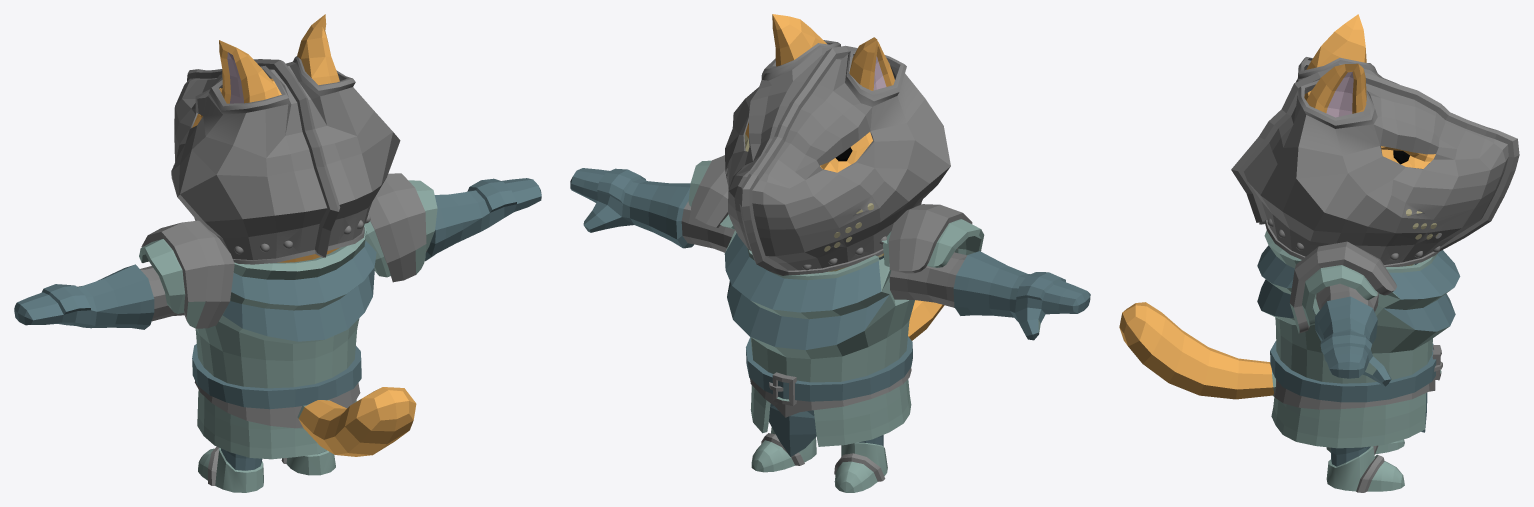
The model's file is Base_Armor_1_SEP_.fbx.
3 renders of one model, left to right at view 1: azimuth 30°, elevation 25°; view 2: azimuth 150°, elevation 25°; view 3: azimuth 270°, elevation 25°, orthographic. The views are drawn at different scales.
Visible parts, largest first — view 1: polySurface1.002, Helmet 1.004, polySurface1.019, polySurface1.003, polySurface1.009; view 2: polySurface1.002, Helmet 1.004, polySurface1.003, polySurface1.019, polySurface1.009; view 3: Helmet 1.004, polySurface1.002, polySurface1.019, polySurface1.003, polySurface1.009.
Boxes of the visible parts, x1=… form: polySurface1.002: x1=140, y1=14, x2=427, y2=459; Helmet 1.004: x1=171, y1=56, x2=400, y2=264; polySurface1.019: x1=139, y1=173, x2=437, y2=328; polySurface1.003: x1=14, y1=178, x2=541, y2=329; polySurface1.009: x1=198, y1=446, x2=335, y2=492; polySurface1.002: x1=681, y1=14, x2=966, y2=456; Helmet 1.004: x1=725, y1=40, x2=950, y2=275; polySurface1.003: x1=570, y1=168, x2=1090, y2=340; polySurface1.019: x1=688, y1=155, x2=984, y2=273; polySurface1.009: x1=751, y1=427, x2=887, y2=492; Helmet 1.004: x1=1231, y1=57, x2=1519, y2=267; polySurface1.002: x1=1119, y1=14, x2=1460, y2=448; polySurface1.019: x1=1289, y1=241, x2=1396, y2=333; polySurface1.003: x1=1315, y1=296, x2=1391, y2=386; polySurface1.009: x1=1326, y1=439, x2=1404, y2=492.
Bounding box in the file's own units: 175 × 143 × 122.
